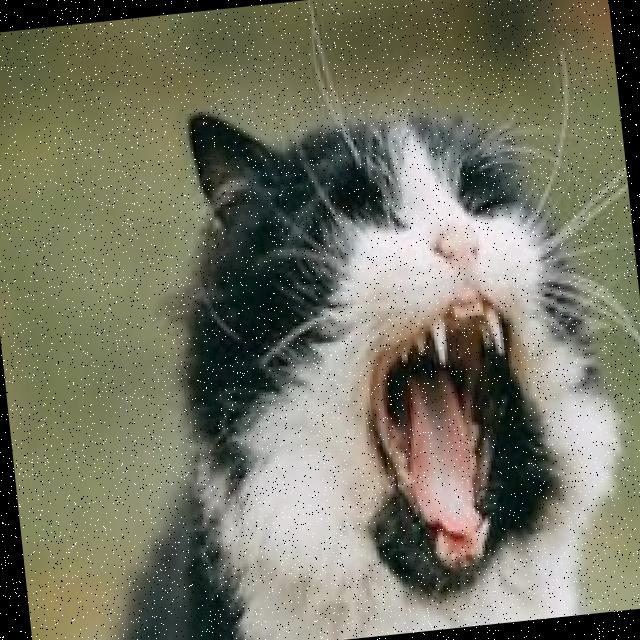Angry: (270, 137, 590, 602)
